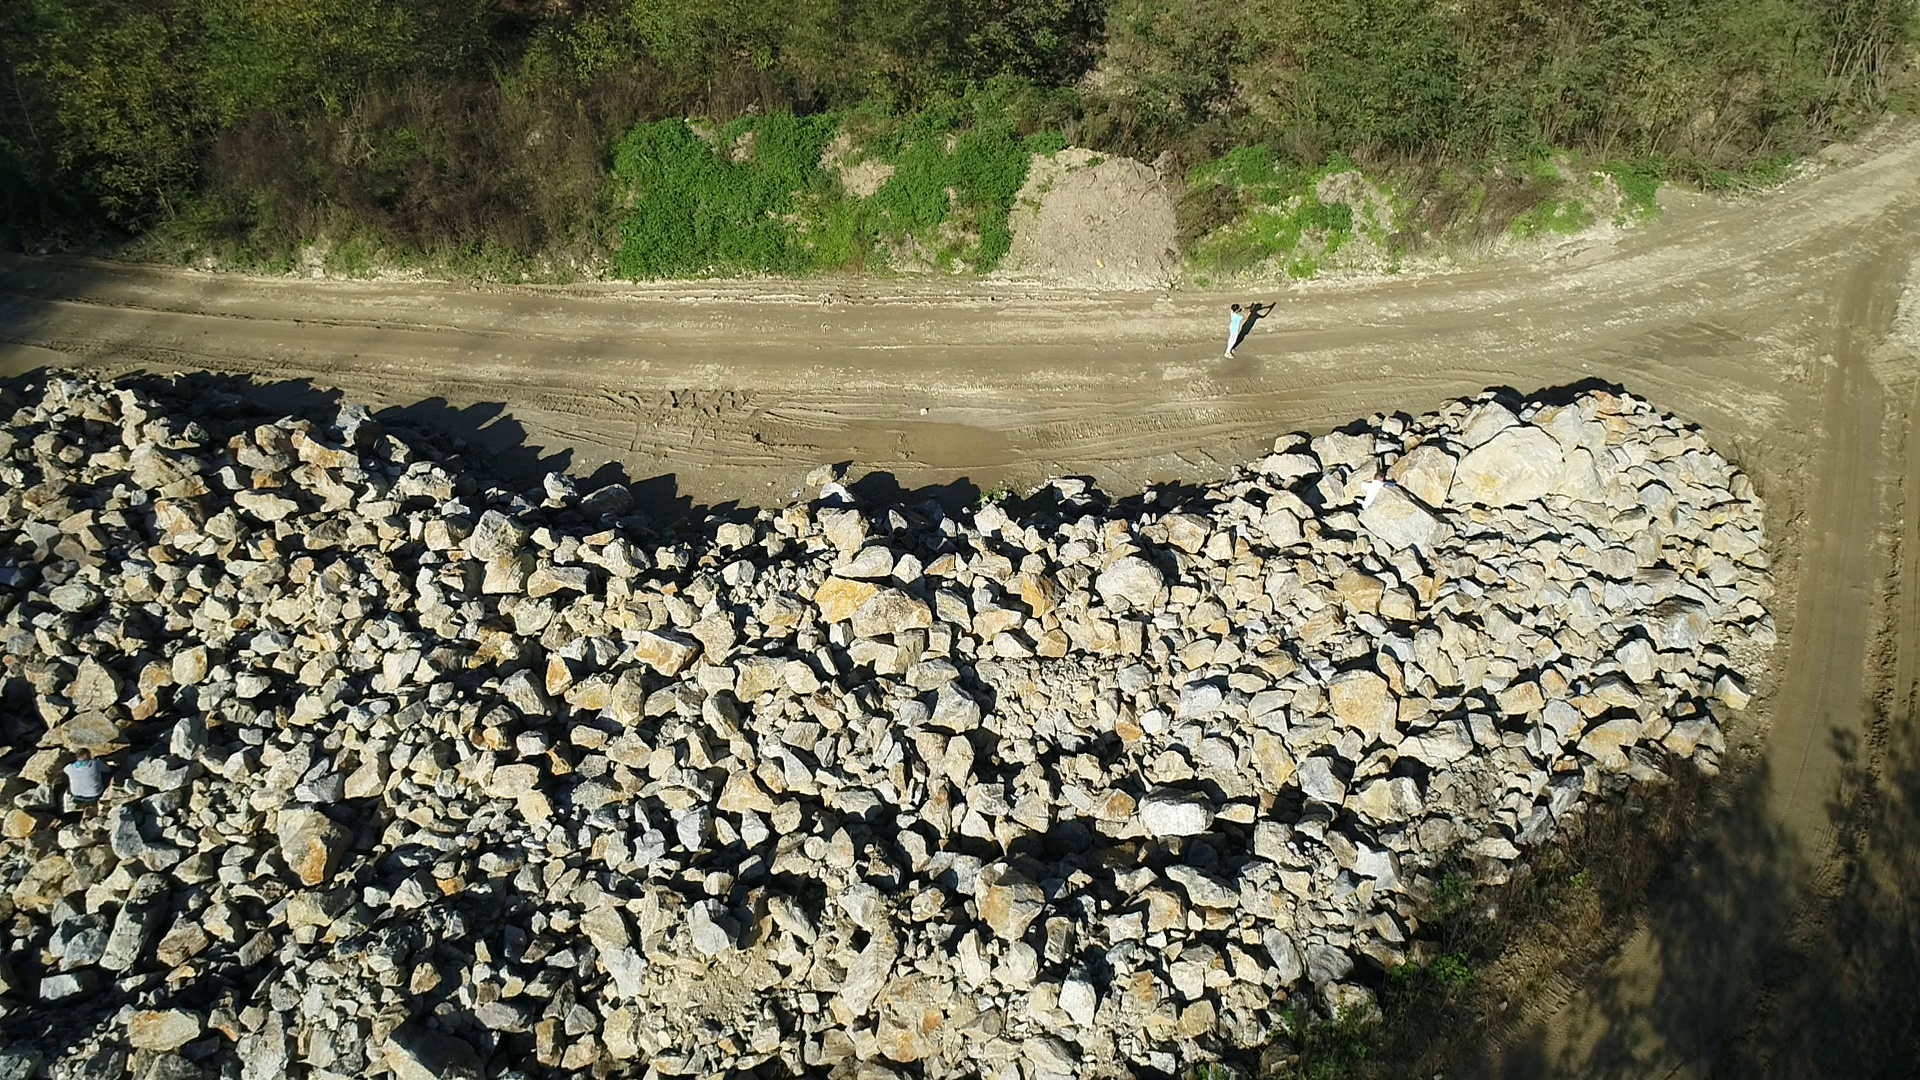person: (62, 746, 112, 802), (1223, 301, 1255, 358), (1353, 471, 1397, 511)
